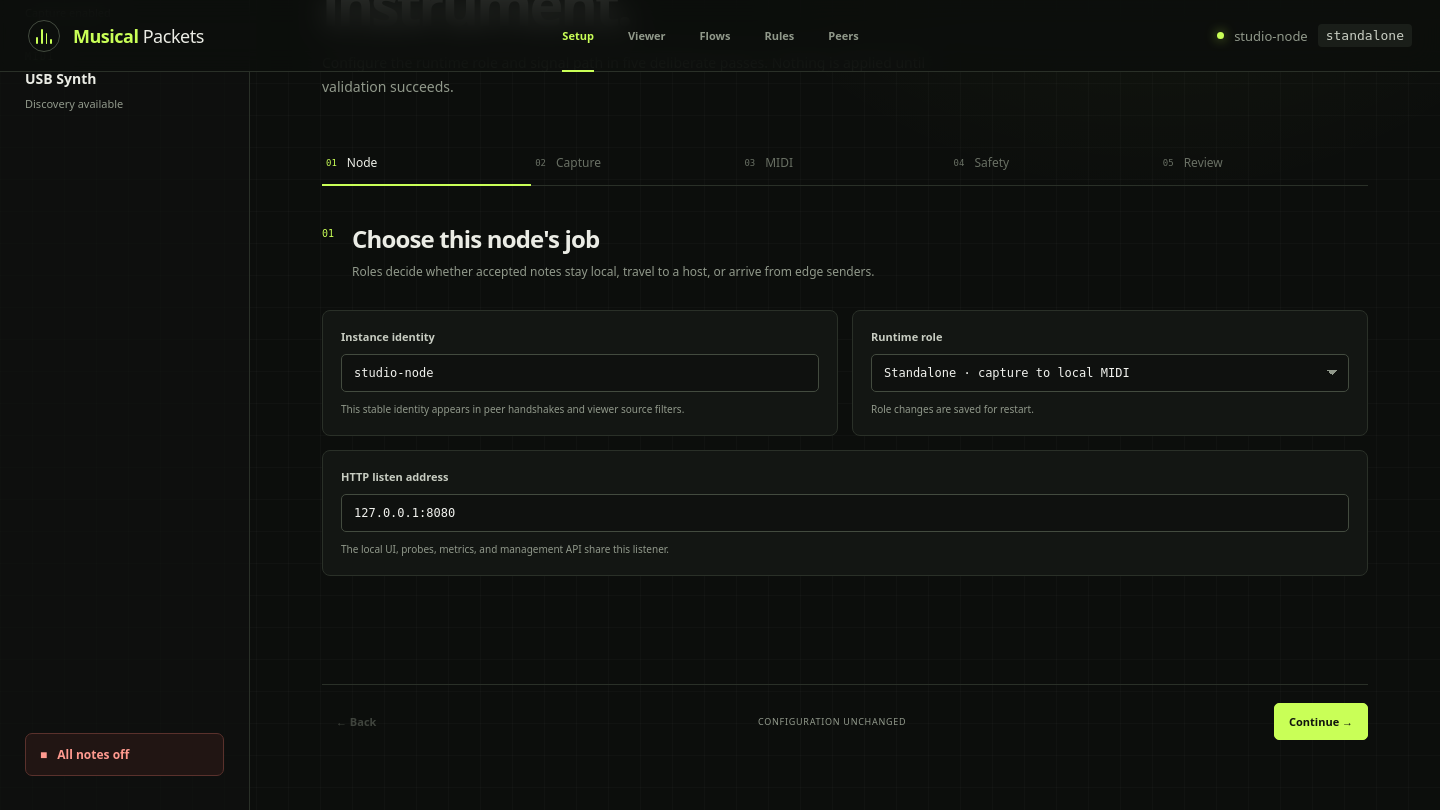
Test case: setup assistant › routes MIDI panic through the management client
(page scrolled)
Click the button "■ All notes off".
click(124, 755)  # box [25,734,224,776]
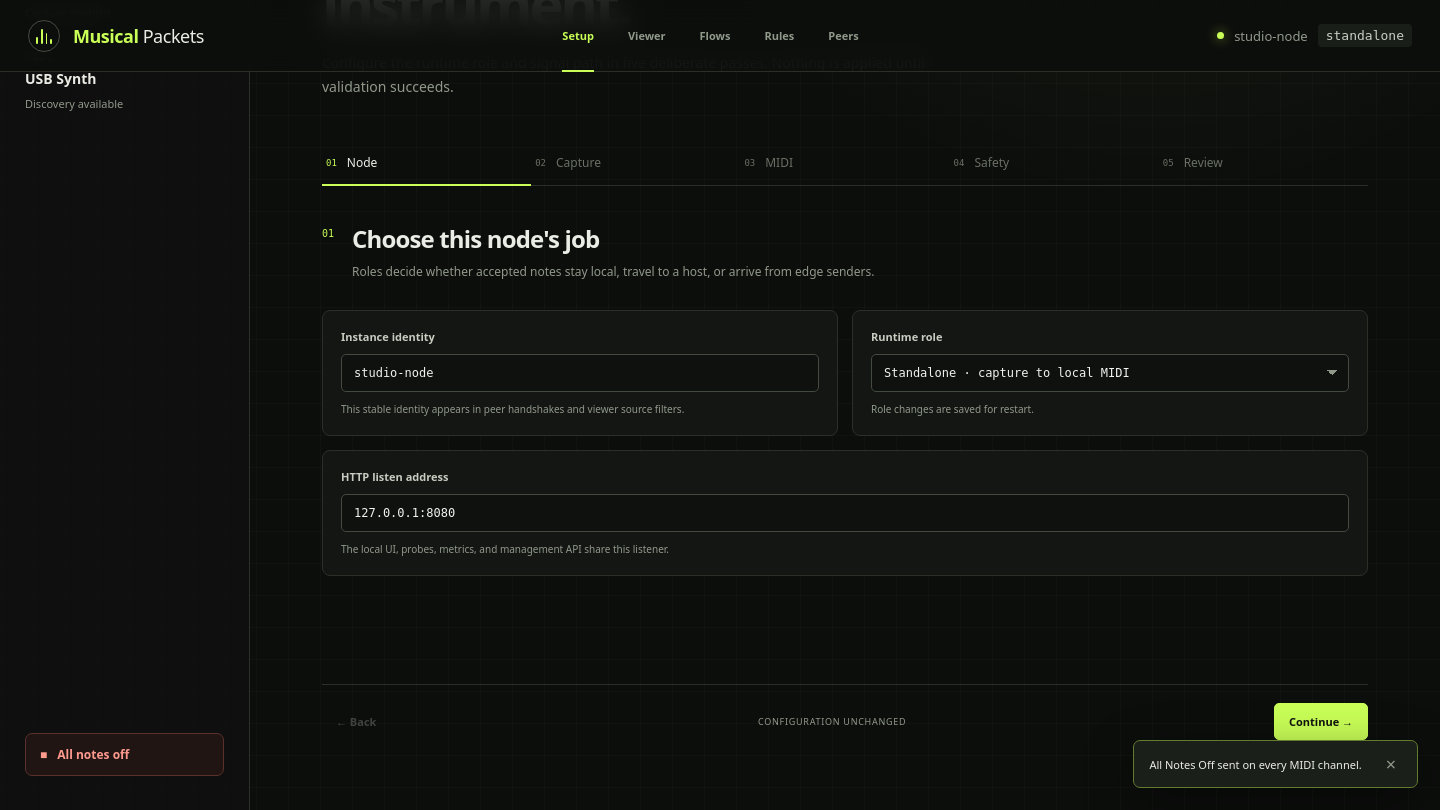
Result: the message shows "All Notes Off sent" at [1149,756,1362,772]
